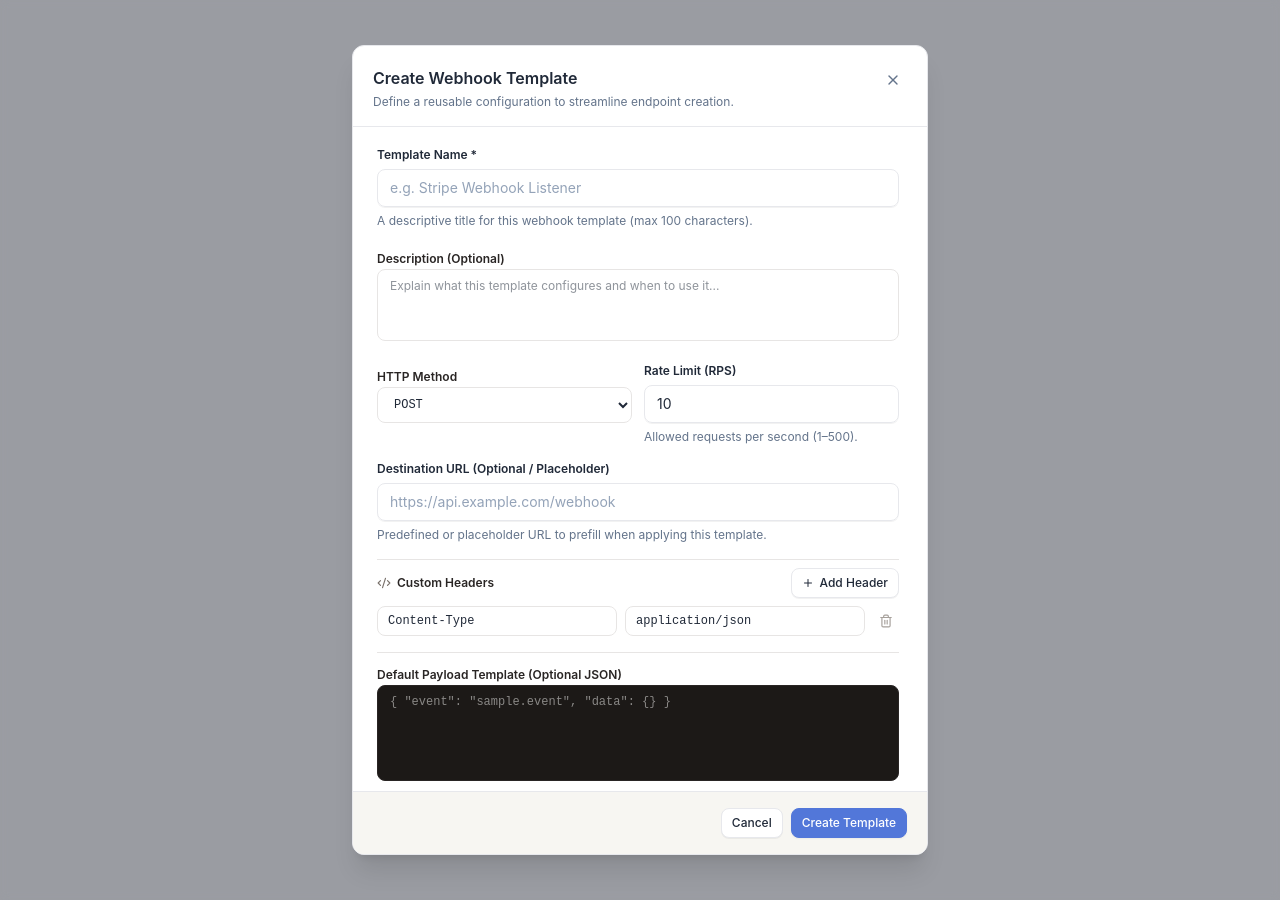
Test: Phase 2 – Vani's Task 1: Webhook Templates (Frontend) › 4. TemplateFormModal Component › validates template name requirement and boundaries
Click the button "Create Template": (849, 823) [791, 808, 907, 838]
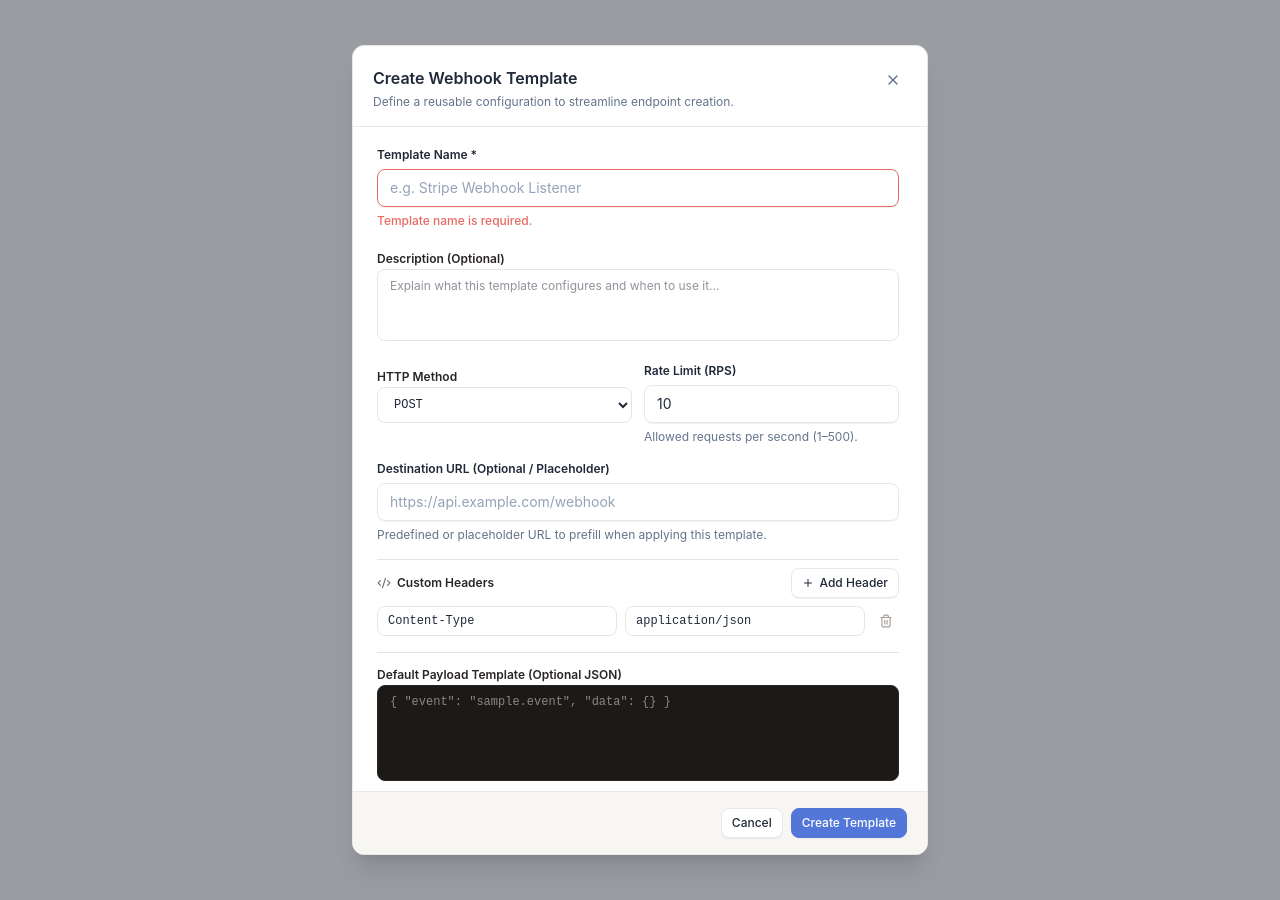
Check: the text "Template name is required." is shown, box [377, 213, 532, 228]
